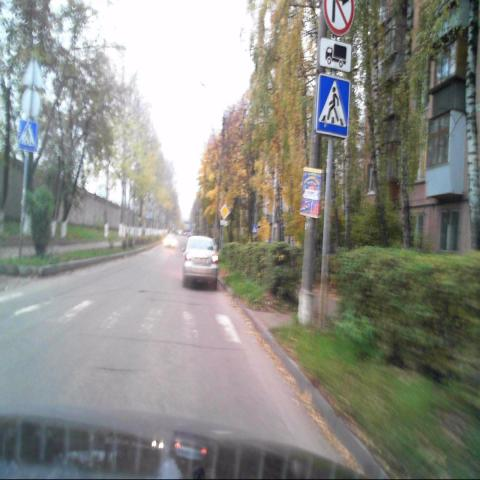8_4_1: (319, 38, 351, 73)
